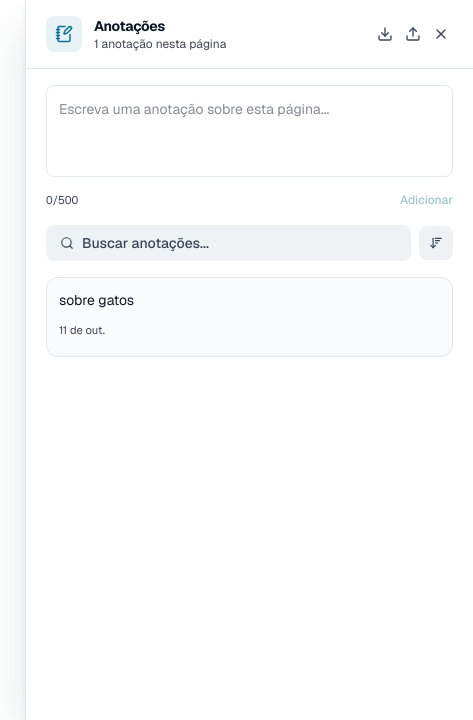
Test: AnnotationsPanel › shows a no-results message when the search matches nothing
Type "elefantes" into the field with placeholder "Buscar anotações..." at (240, 243), box [82,233,397,253]
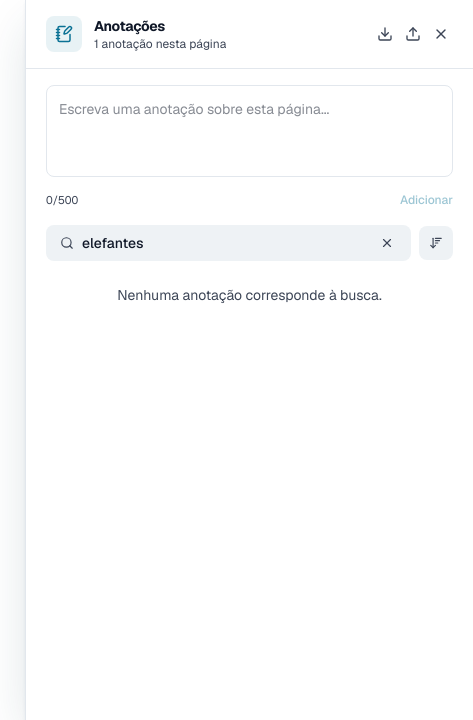
Now the text "Nenhuma anotação corresponde à busca." is shown, box [117,286,382,304]
